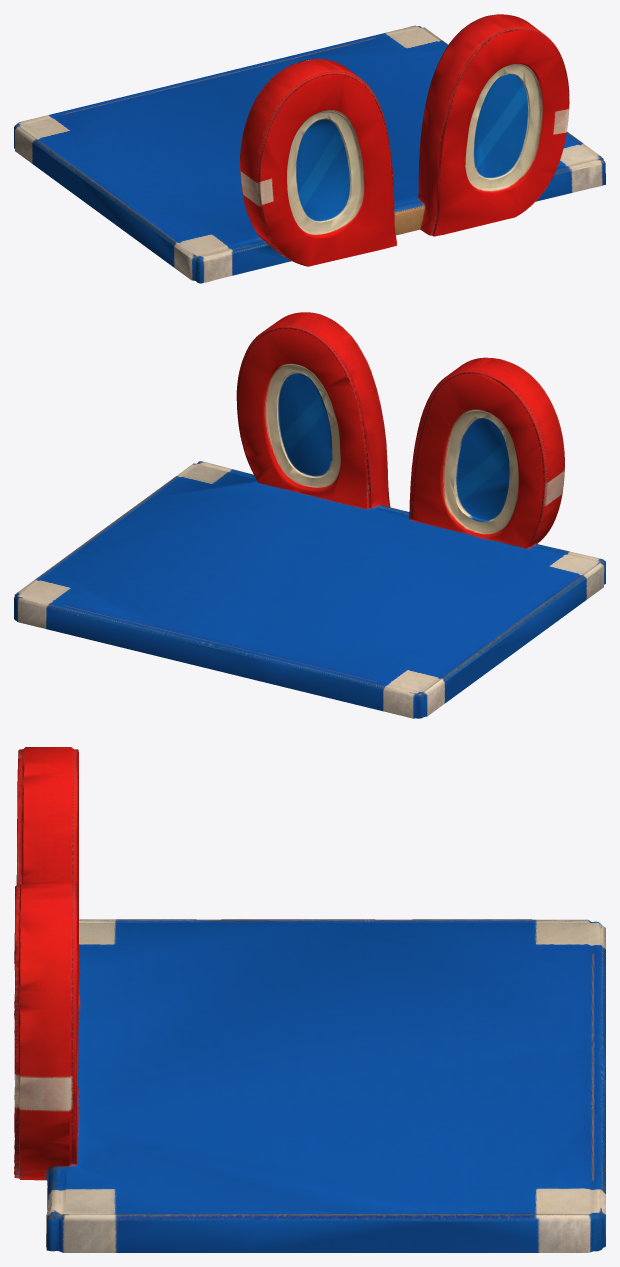
File: 8-topper.fbx
3 views of the same model, one above another, from view 1: azimuth 30°, elevation 25°; view 2: azimuth 150°, elevation 25°; view 3: azimuth 270°, elevation 25° (orthographic). The views are drawn at different scales.
Parts seen in each view (by area): view 1: topper; view 2: topper; view 3: topper.
Boxes of the visible parts, box(x1,y1,x2,y2) form: topper: box(14, 14, 605, 283); topper: box(14, 312, 605, 718); topper: box(14, 747, 605, 1252).
Size of the model in its own units: 9534 by 4178 by 7967.
1 material, 1 textured.
